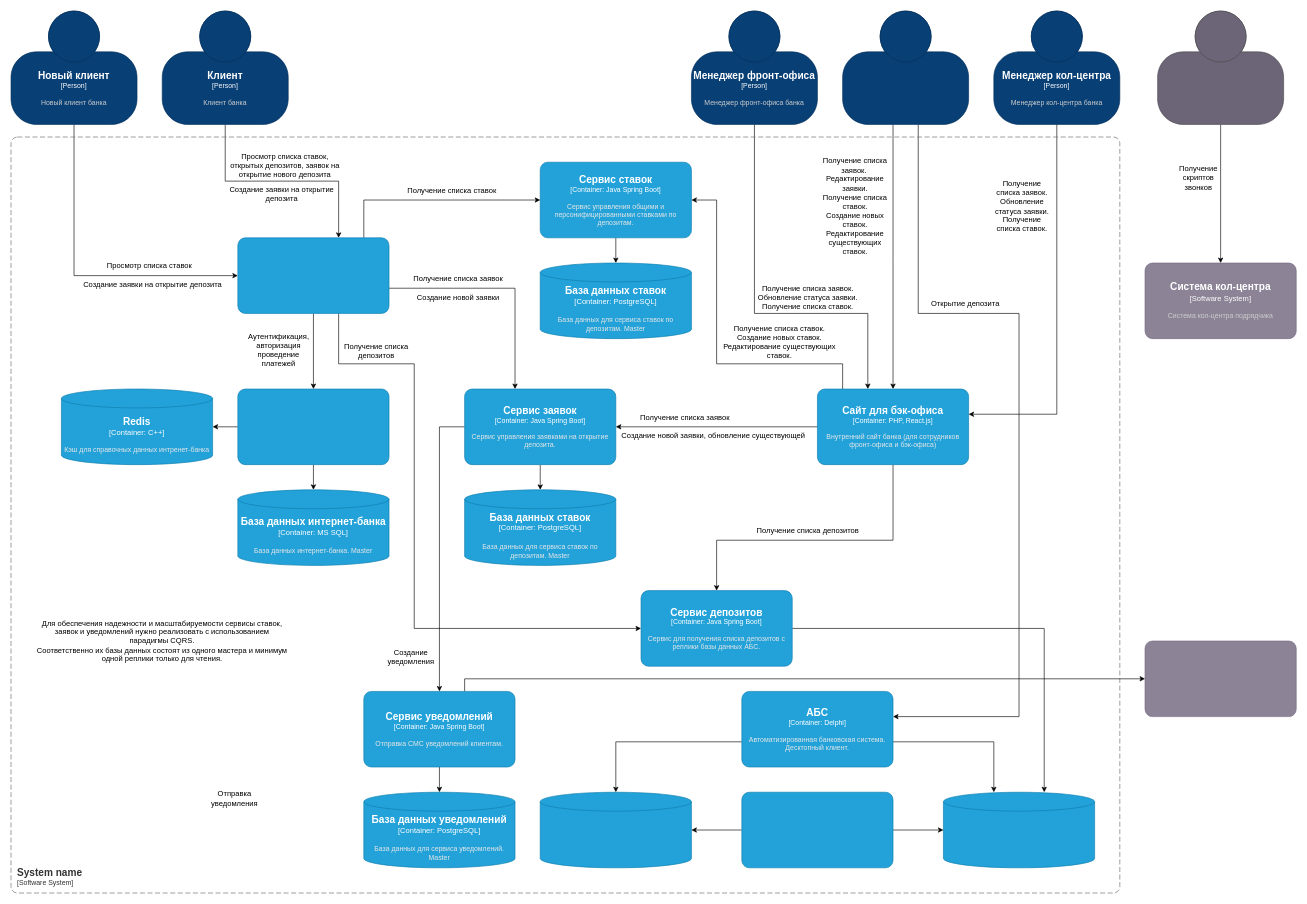
The diagram is 1307 pixels wide and 904 high, and some of its shapes have lost their labels. The shapes that lost their labels are listed below. From the top down, each one's centre as x and y in pixels, then its label:
point (905, 67): Менеджер бэк-офиса [Person] Менеджер бэк-офиса банка
point (1220, 67): Менеджер кол-центра [Person] Менеджер партнёрского кол-центра
point (313, 275): Сайт [Container: PHP, React.js] Внешний сайт банка
point (313, 426): Интернет-банк [Container: ASP.NET MVC 4.5] Интернет-банк, выполняет функции CRM.
point (1220, 678): СМС-шлюз [Software System] СМС-шлюз телеком-оператора
point (615, 830): База данных АБС [Container: Oracle Database] База данных АБС. Master
point (817, 830): CDC Oracle GoldenGate [Container: Java] Реплицирование основной базы данных АБС.
point (1019, 830): База данных АБС [Container: Oracle Database] База данных АБС. RO Replica
